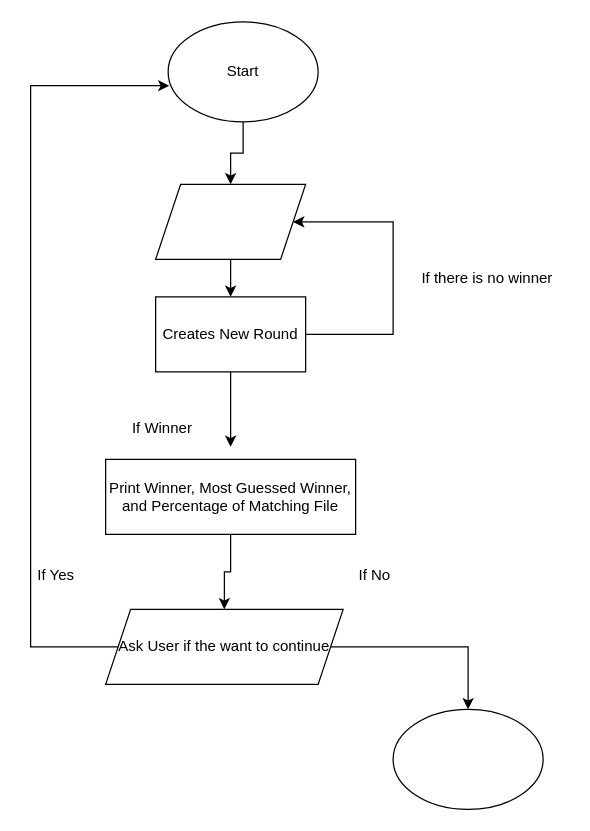
Some shapes in this 590 by 831 pixel diagram are drawn without their labels. The shapes that lost their labels are listed below. From the top down, each one's centre as x and y in pixels, then its label:
At pixel 230 221: "Ask User to Select Teams".
At pixel 467 758: "End".
